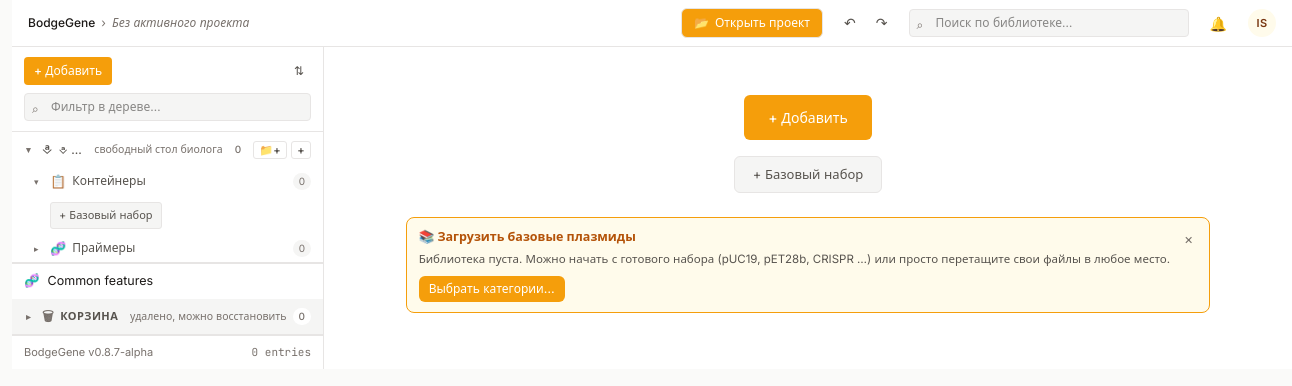
Scenario: M-X.7a v2 K4 — LibraryWorkspace › topbar search input updates the shared query (reaches tree-search input)
Type "puc" into the field with test id "library-topbar-search" at (1048, 23), box [908, 9, 1188, 37]
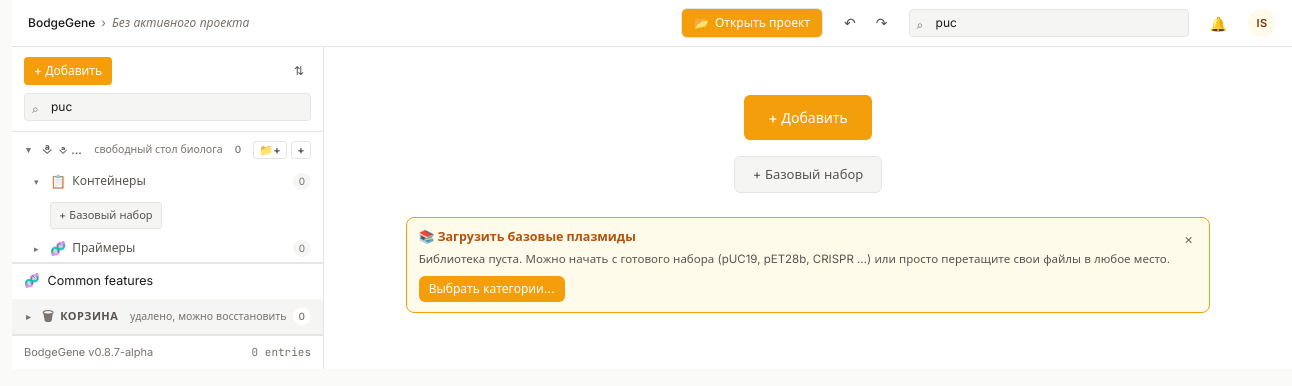
Result: the field with test id "tree-search" holds "puc" at [24, 93, 311, 121]
